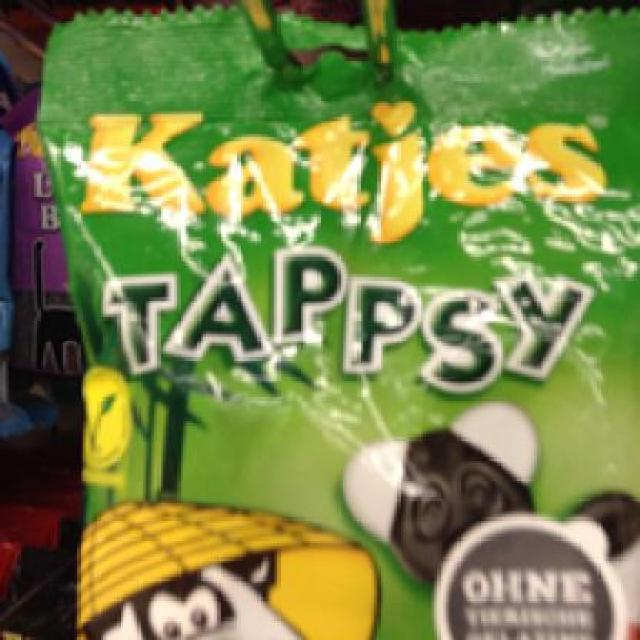Candy: (37, 14, 637, 632)
